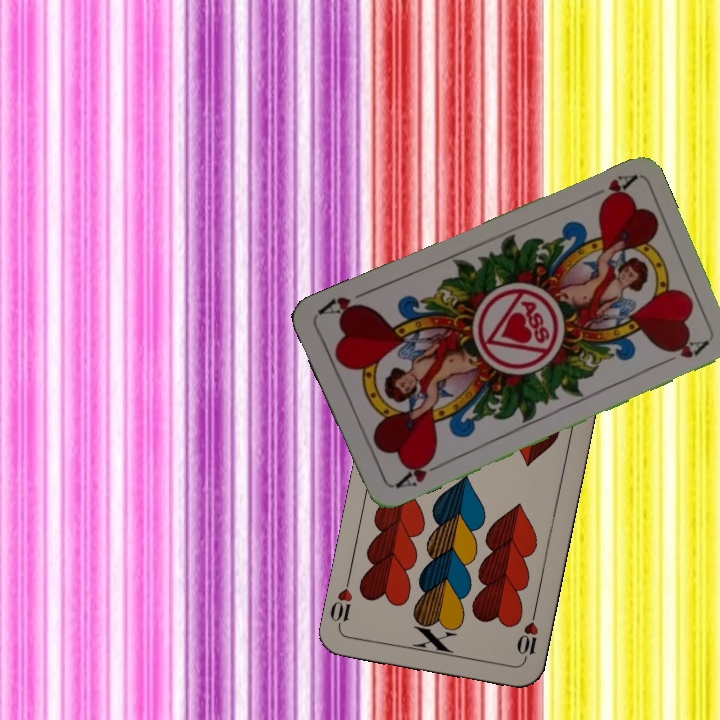H10: (512, 607, 541, 666)
HA: (391, 452, 445, 491), (581, 170, 637, 207)
